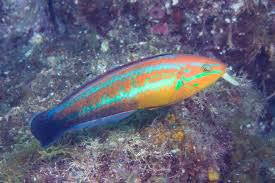bera: (21, 36, 230, 150)
